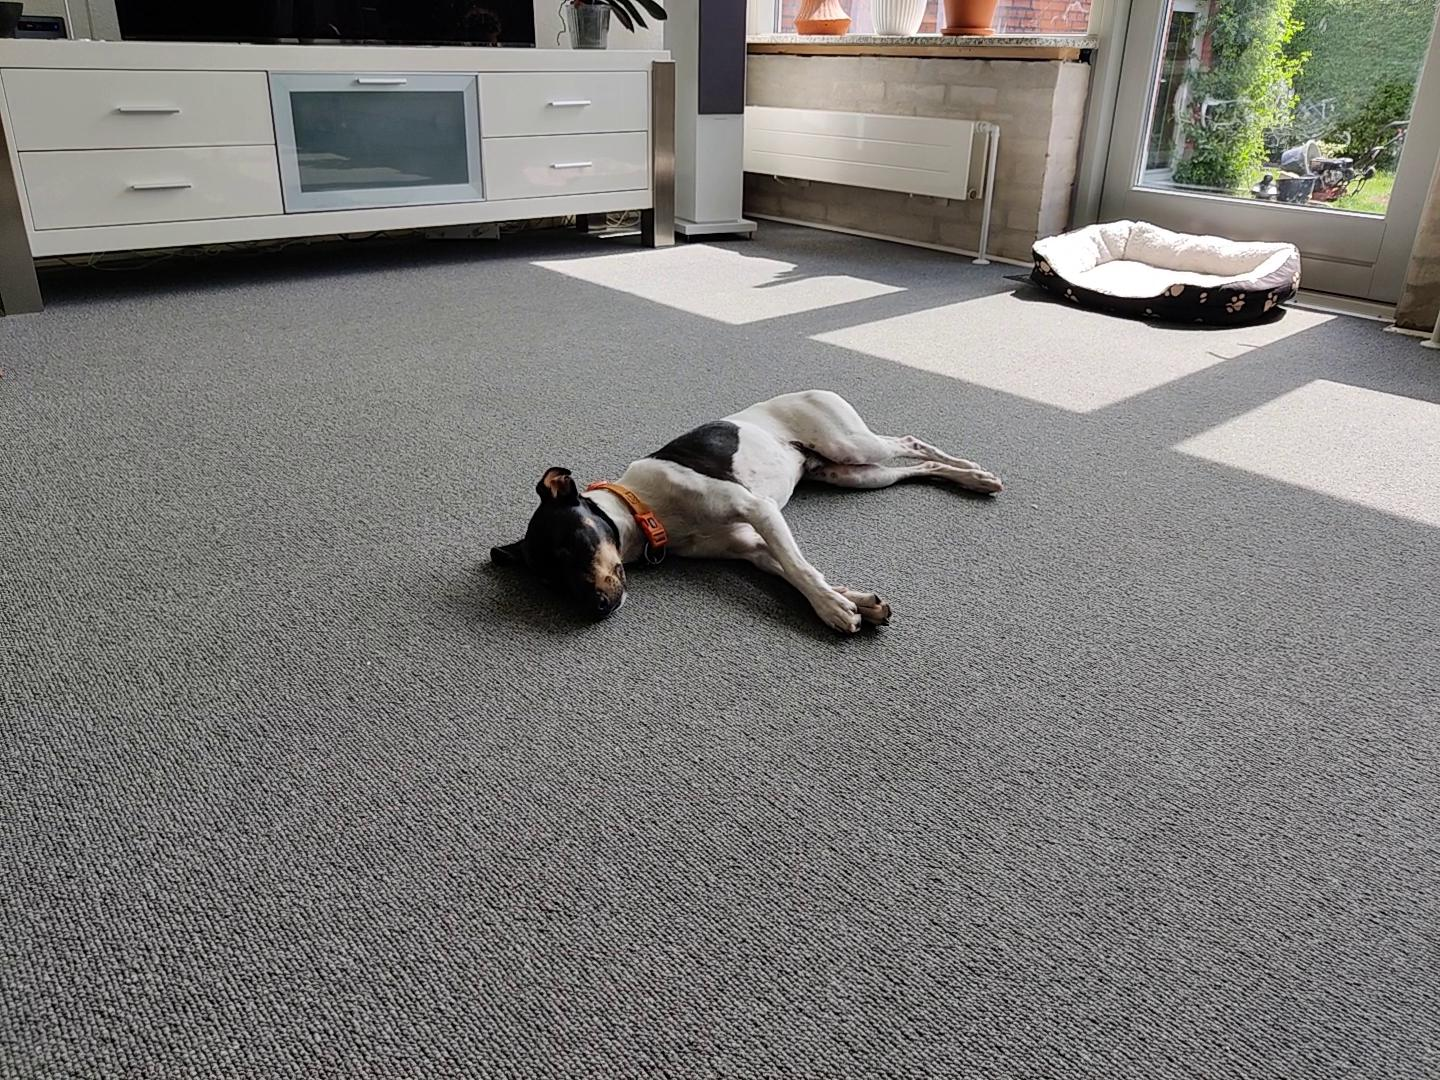Dog: (488, 383, 1008, 638)
